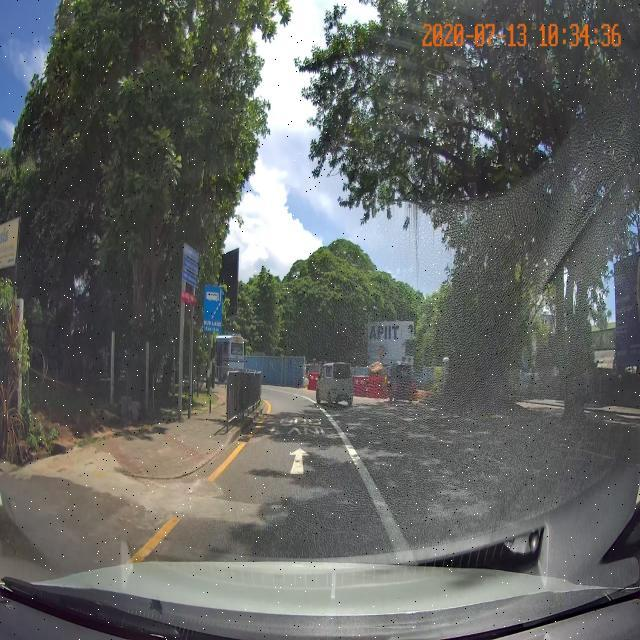forward: (182, 436, 399, 519)
